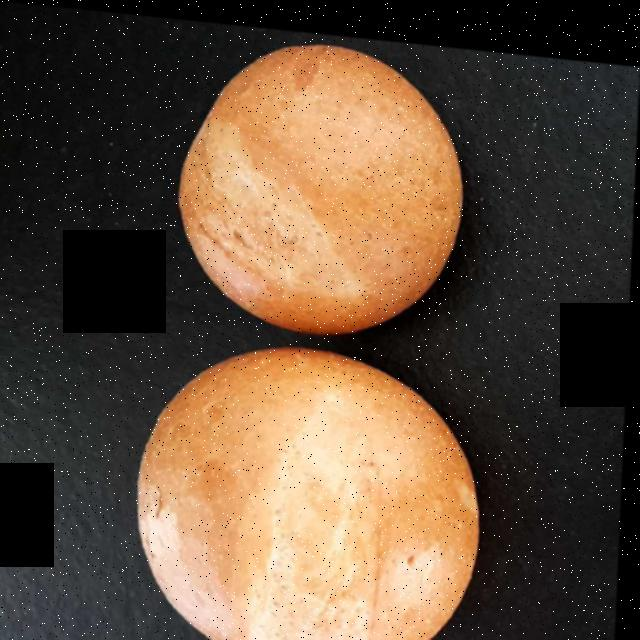bread-white: (152, 30, 518, 640), (138, 45, 495, 640)
